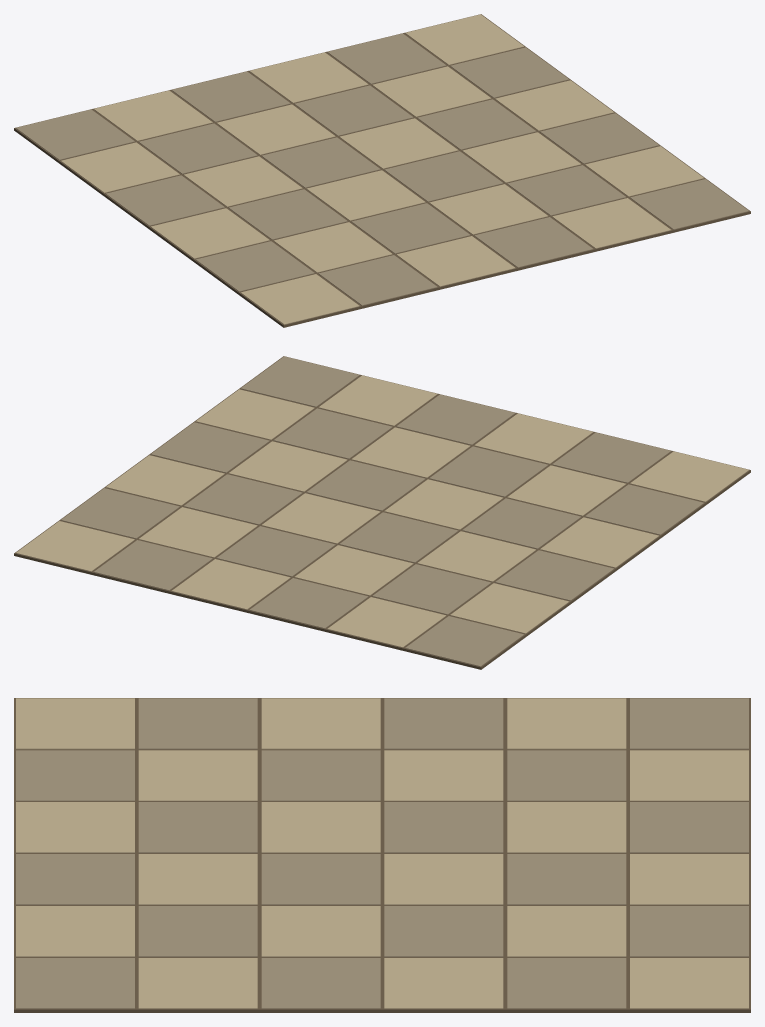
File: env_plaza.glb
The picture shows the model from 3 angles, top to bottom: view 1: azimuth 30°, elevation 25°; view 2: azimuth 150°, elevation 25°; view 3: azimuth 270°, elevation 25°; orthographic projection. The views are drawn at different scales.
Parts seen in each view (by area): view 1: ENV_Plaza; view 2: ENV_Plaza; view 3: ENV_Plaza.
Part boxes in pixels (left/top/right/bottom): ENV_Plaza: left=14, top=14, right=750, bottom=327; ENV_Plaza: left=14, top=356, right=750, bottom=669; ENV_Plaza: left=14, top=698, right=750, bottom=1012.
Size of the model in its own units: 12 by 0.08 by 12.
